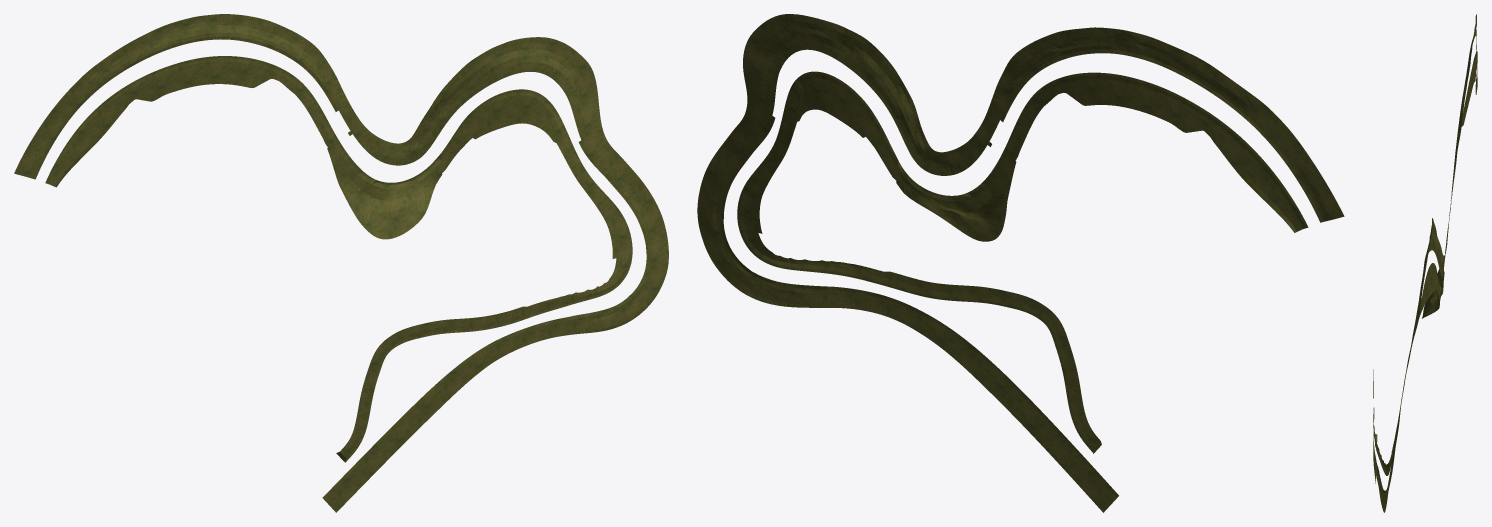
3 views of the same model, side by side, from view 1: azimuth 30°, elevation 25°; view 2: azimuth 150°, elevation 25°; view 3: azimuth 270°, elevation 25° (orthographic). The views are drawn at different scales.
Size of the model in its own units: 241 by 181 by 41.12.
1 material, 1 textured.
